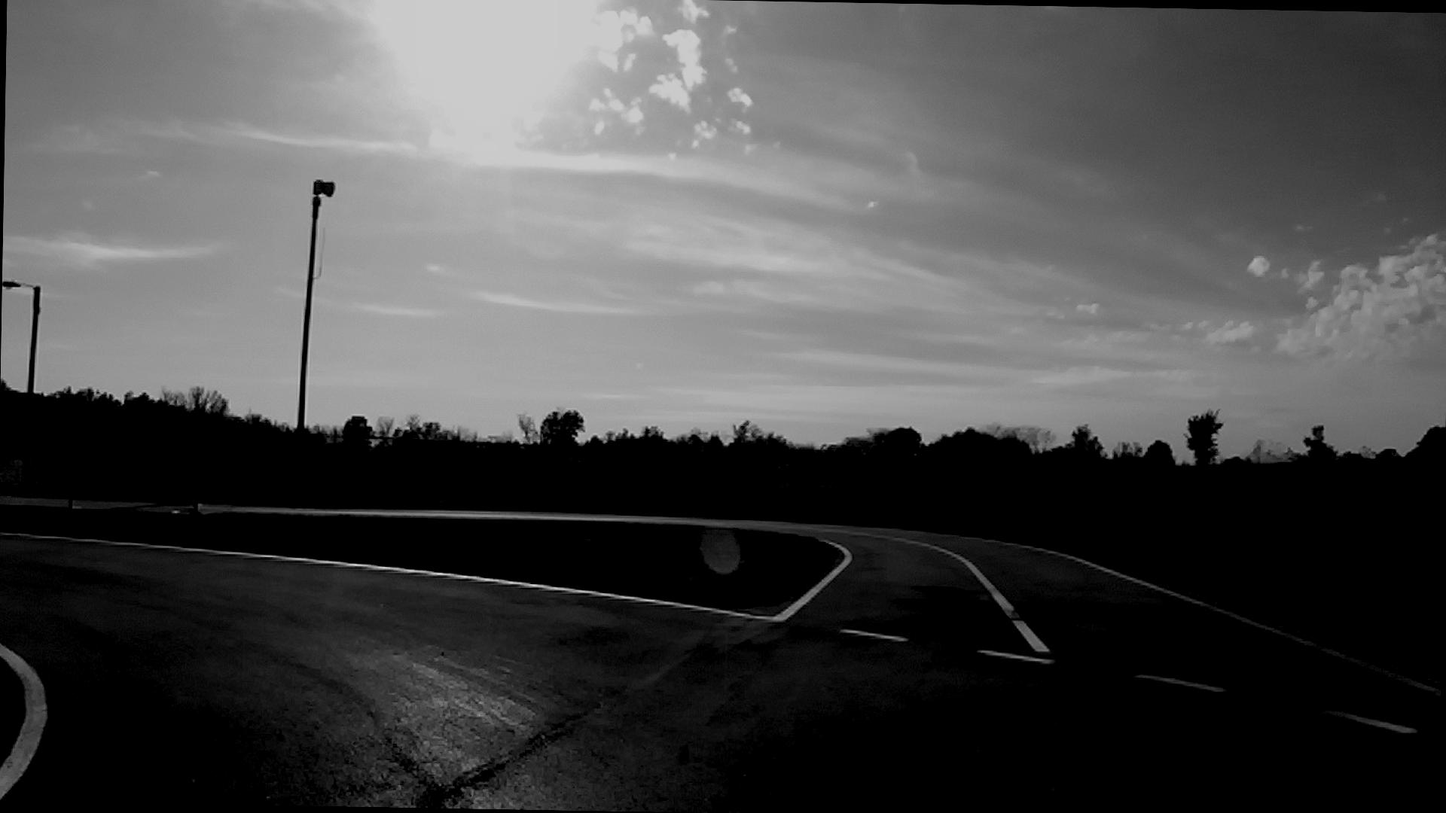white-line: (0, 532, 852, 622), (926, 544, 1048, 651), (0, 643, 47, 799), (1320, 708, 1417, 733), (1134, 674, 1225, 692), (977, 648, 1052, 663), (841, 628, 907, 640)
